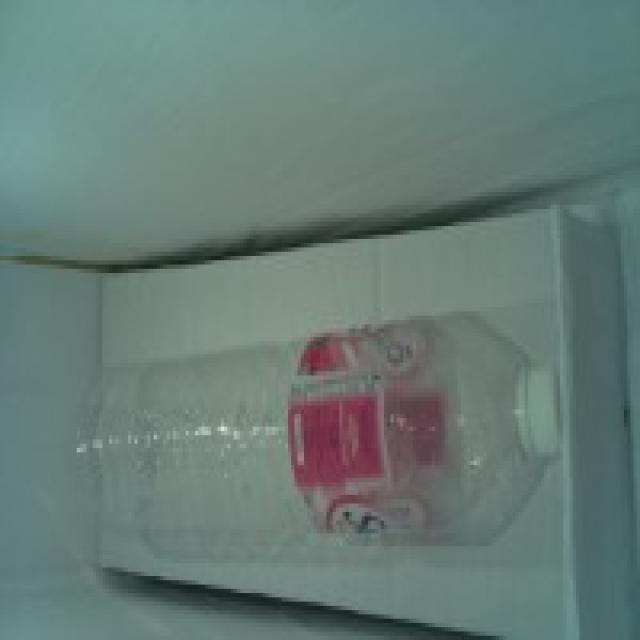Anorganik: (67, 307, 563, 580)
